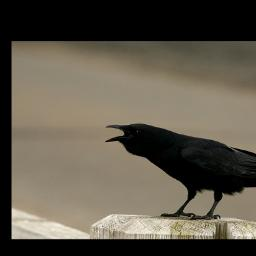Crow: (105, 123, 256, 221)
